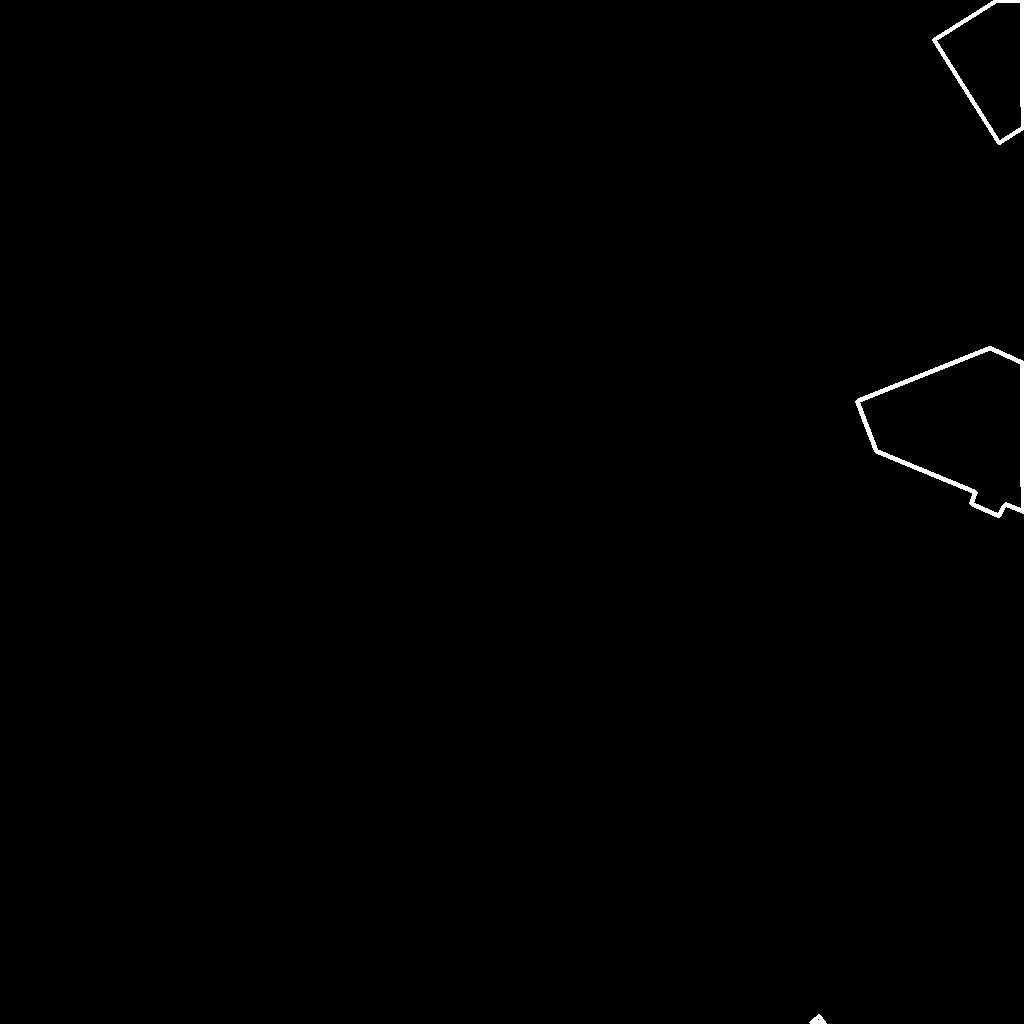building: (857, 348, 1024, 517), (934, 0, 1024, 144), (811, 1016, 826, 1024)
